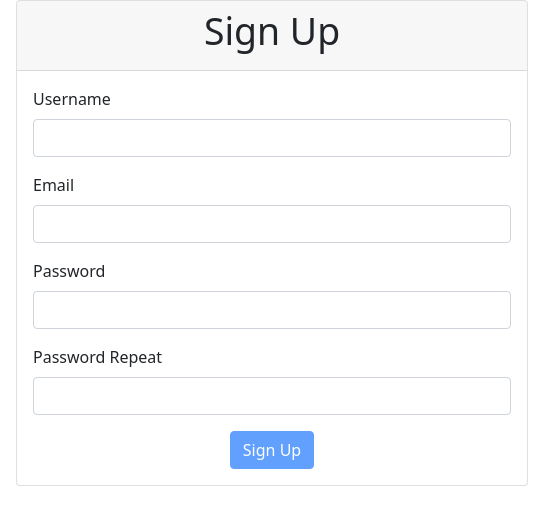
Test: Sign Up page › Interactions › displays Username cannot be null for username
This screenshot has width=545, height=530.
In the field labelled "Username": coordinates (272, 138) [33, 119, 511, 157], type "Rind"
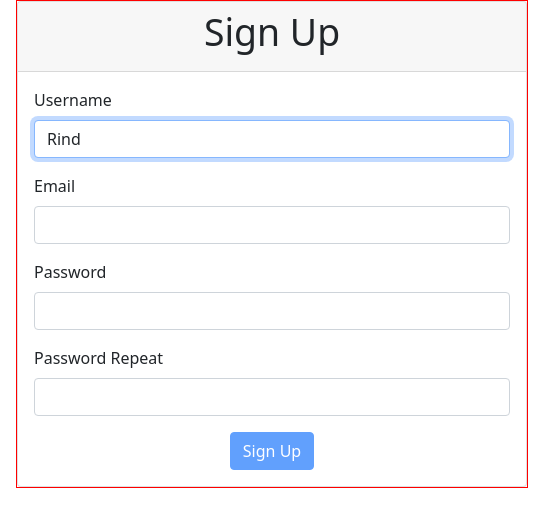
In the field labelled "Email": coordinates (272, 225) [34, 206, 510, 244], type "test@mail.io"
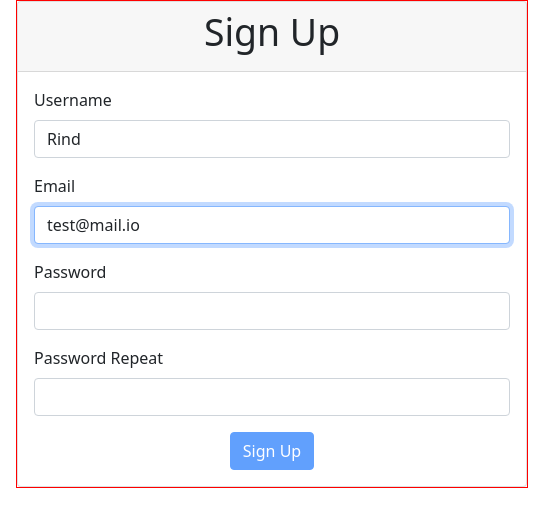
In the password field labelled "Password": coordinates (272, 311) [34, 292, 510, 330], type "pass123"
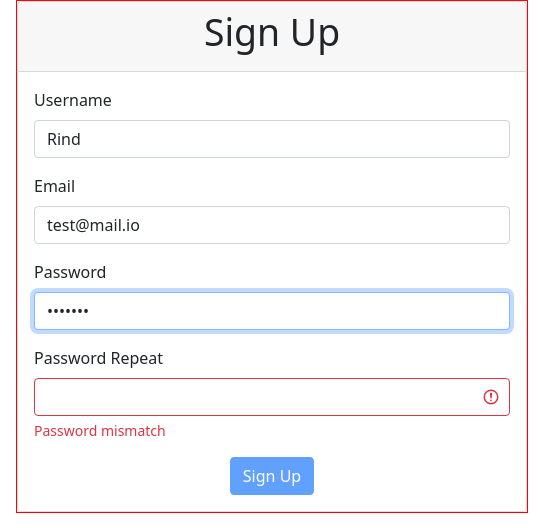
In the password field labelled "Password Repeat": coordinates (272, 397) [34, 378, 510, 416], type "pass123"
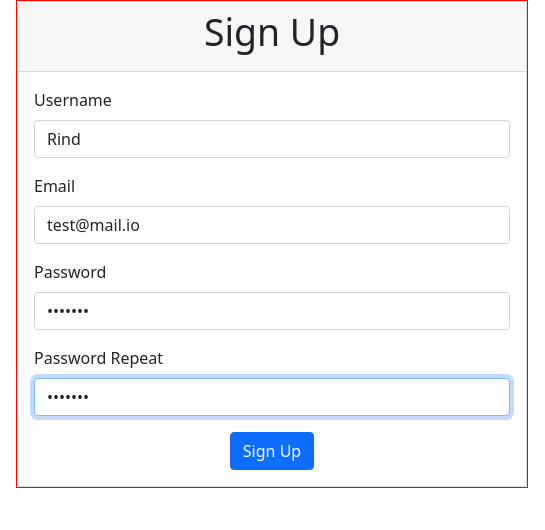
Click the button "Sign Up": coordinates (272, 451) [230, 432, 314, 470]
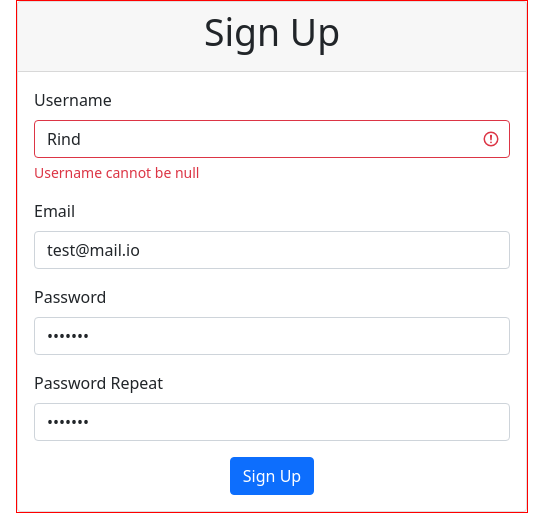
Check: the text "Username cannot be null" is shown, box [34, 163, 200, 182]
